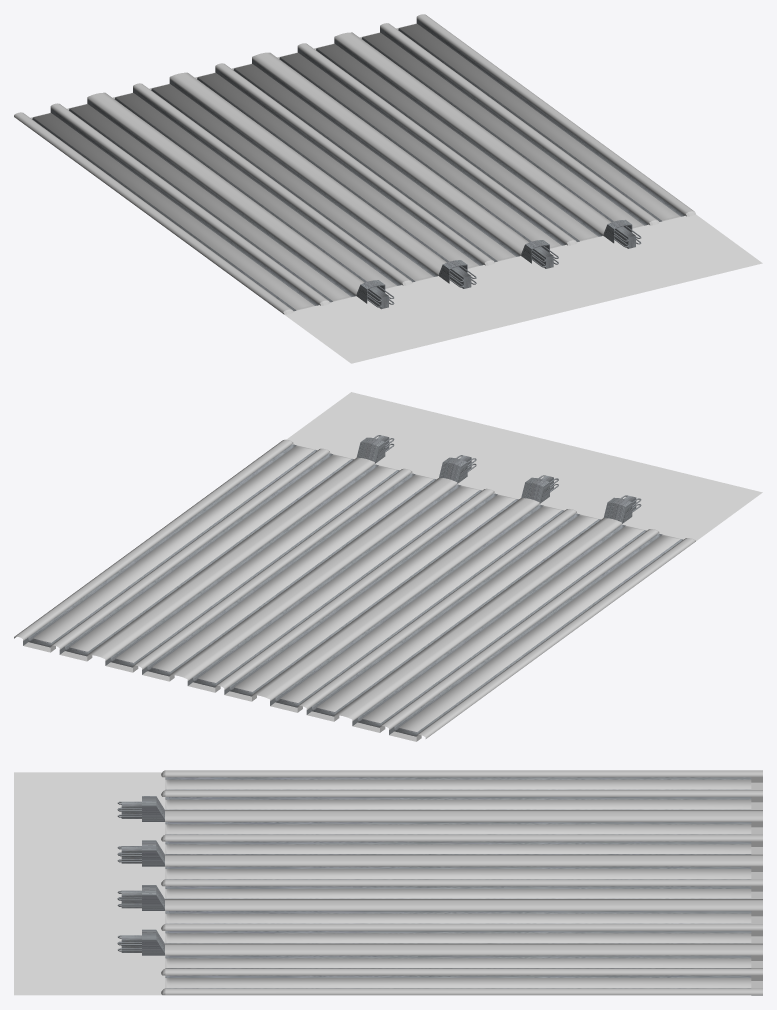
The model's file is allay.FBX.
3 views of the same model, one above another, from view 1: azimuth 30°, elevation 25°; view 2: azimuth 150°, elevation 25°; view 3: azimuth 270°, elevation 25° (orthographic). The views are drawn at different scales.
Visible parts, largest first — view 1: front, Allay1, Allay4, Allay2, Allay6, Allay8, Allay10, Allay3, Allay5, Allay7, Allay9, middleBig001 (+10 smaller); view 2: front, Allay6, Allay8, Allay2, Allay3, Allay4, Allay9, Allay10, Allay1, Allay5, Allay7, middleBig002 (+10 smaller); view 3: front, middleBig001, middleBig003, Allay10, Allay4, Allay5, Allay9, middleBig002, middleBig, Allay1, Allay2, Allay3 (+10 smaller).
Boxes of the visible parts, x1,y1,x2,y2 form: front: (285,214,762,363); Allay1: (30,108,319,311); Allay4: (149,79,437,282); Allay2: (67,99,355,302); Allay6: (231,59,520,262); Allay8: (314,39,602,241); Allay10: (396,19,685,221); Allay3: (113,88,401,288); Allay5: (195,68,483,268); Allay7: (277,48,566,248); Allay9: (359,28,648,228); middleBig001: (169,72,476,288); front: (286,392,762,540); Allay6: (187,484,481,692); Allay8: (105,464,399,672); Allay2: (352,524,646,732); Allay3: (306,513,600,721); Allay4: (270,504,564,712); Allay9: (59,453,353,661); Allay10: (23,444,317,652); Allay1: (389,533,682,741); Allay5: (224,493,518,701); Allay7: (142,473,436,681); middleBig002: (169,455,476,680); front: (14,772,165,995); middleBig001: (117,840,762,866); middleBig003: (117,929,762,955); Allay10: (165,975,762,995); Allay4: (165,841,762,854); Allay5: (165,866,762,879); Allay9: (165,955,762,968); middleBig002: (117,885,762,910); middleBig: (117,796,762,821); Allay1: (165,777,762,789); Allay2: (165,797,762,809); Allay3: (165,822,762,834).
Bounding box in the file's own units: 22500 × 1070 × 31936.
